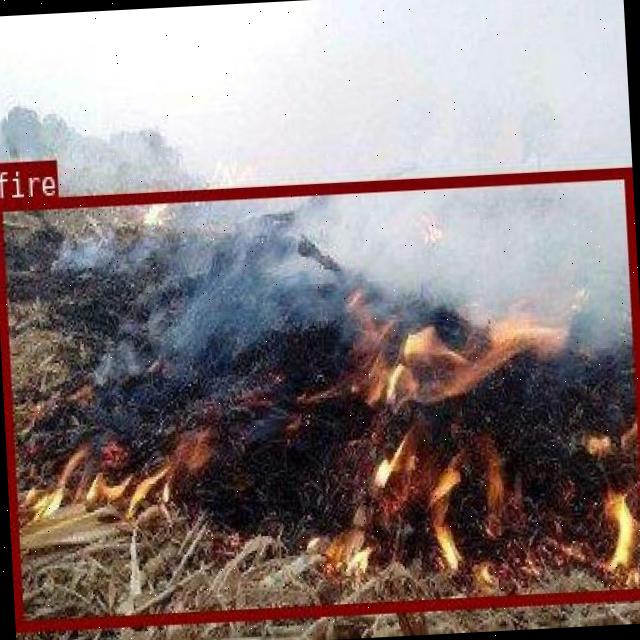fire: (0, 165, 640, 628)
